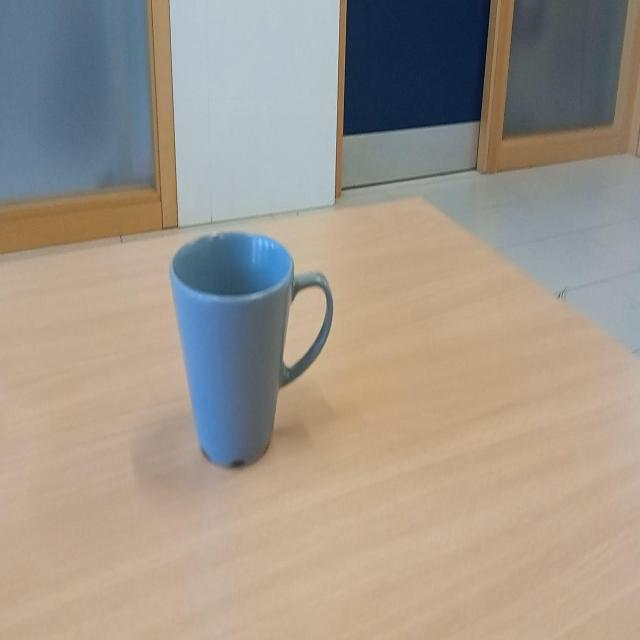cup: (164, 228, 334, 474)
